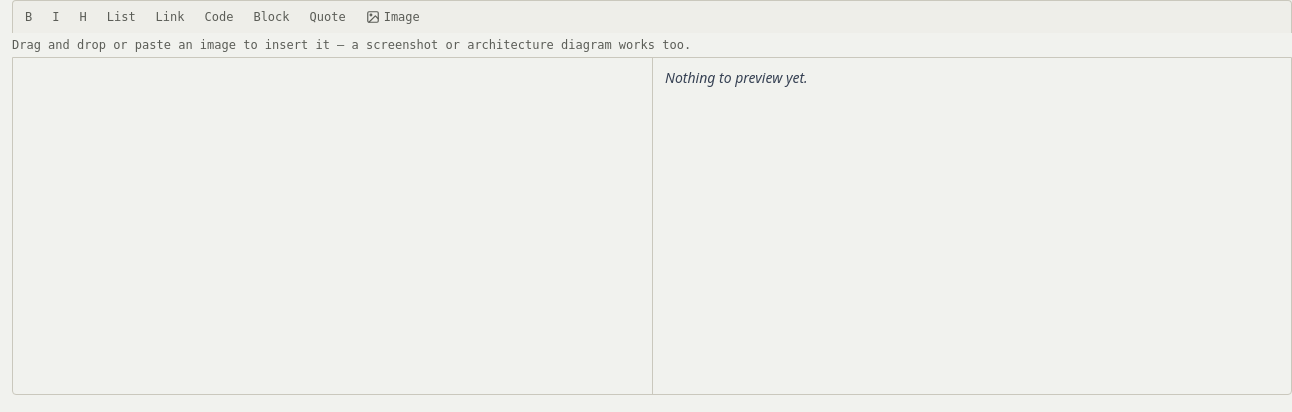
it: MarkdownEditor › wraps the selection in ** when Bold is clicked
Step 1. Type "hello world" into the text box → [332, 226], box x1=13 y1=58 x2=652 y2=394
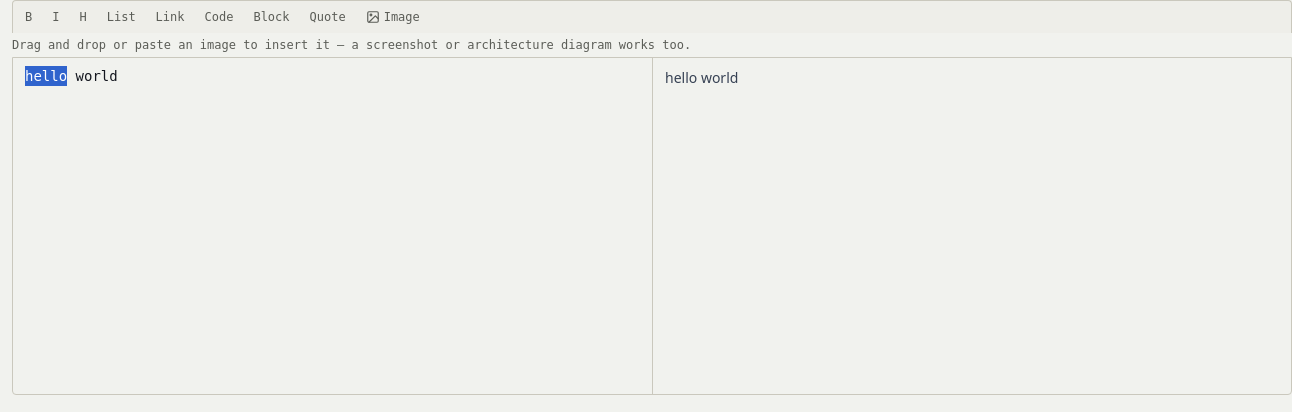
Step 2. Click the button named "Bold" → [29, 17], box x1=17 y1=5 x2=40 y2=29
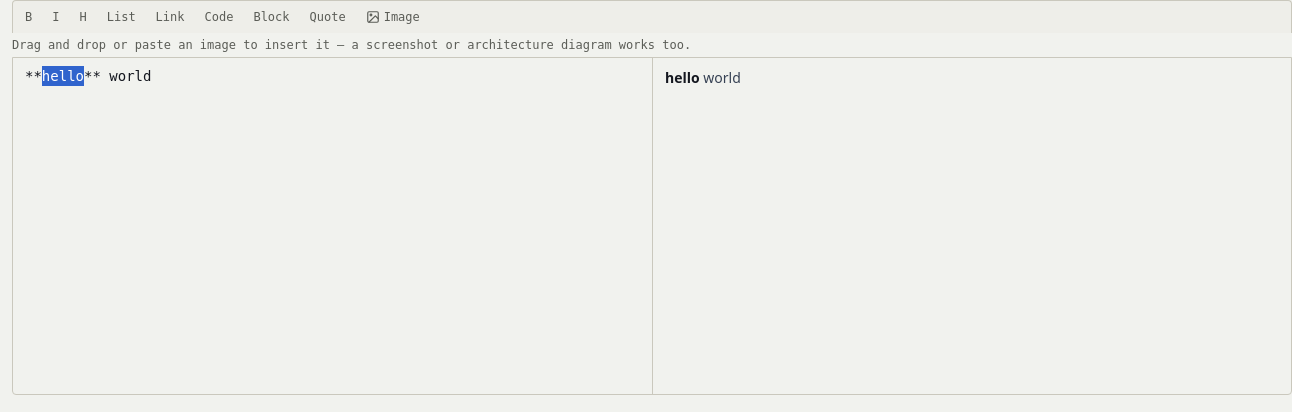
Expected: the text box holds "**hello** world", x1=13 y1=58 x2=652 y2=394
